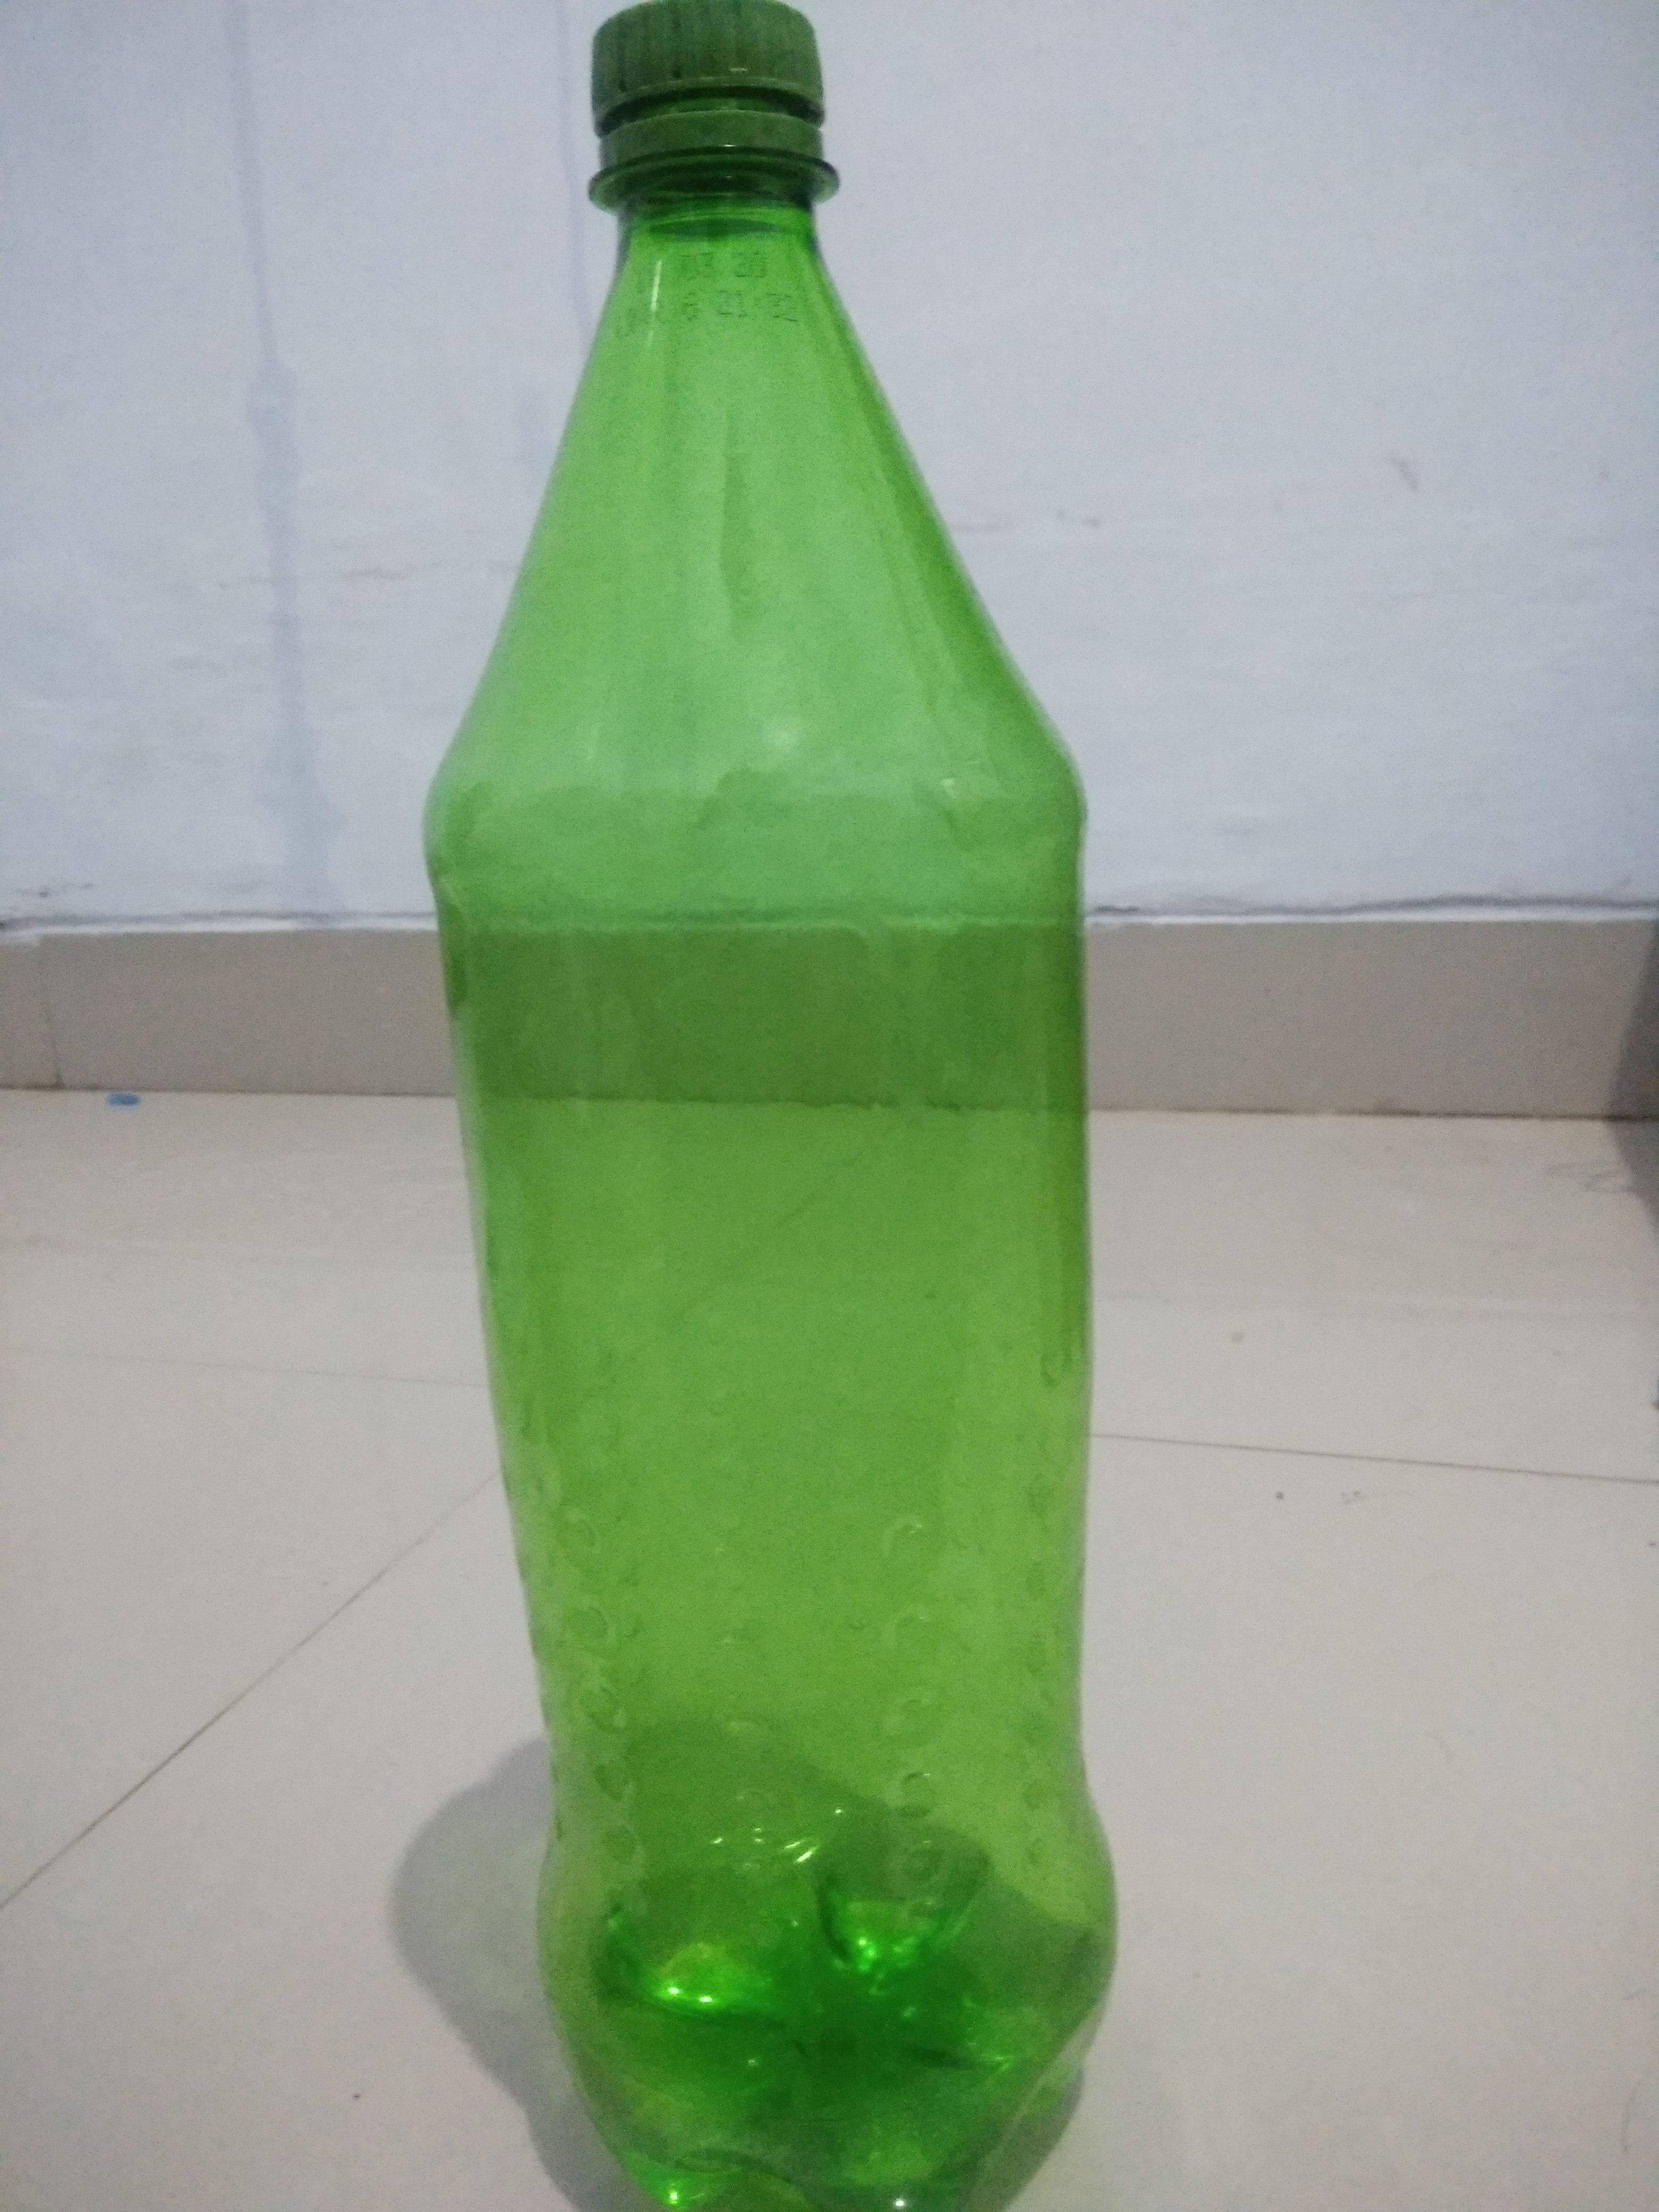HDPE: (544, 0, 887, 202)
PETE: (289, 193, 1333, 2212)
